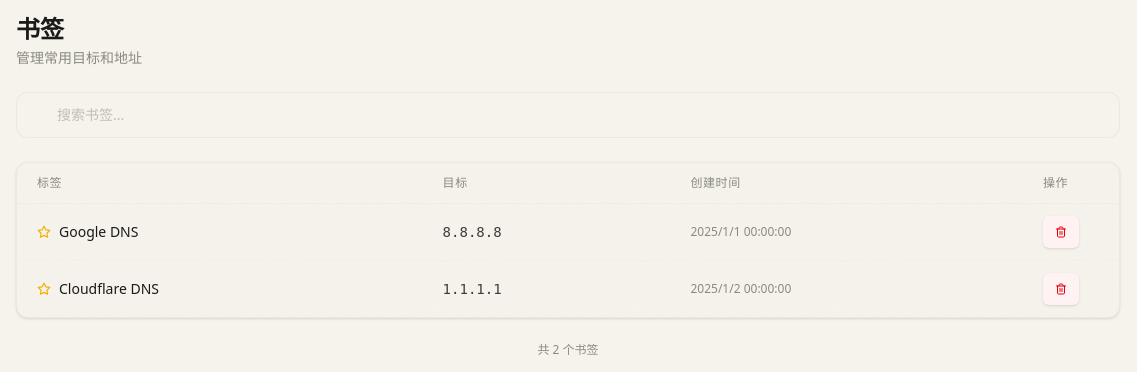
Test: BookmarksPage › filters bookmarks by search query (label match)
The image size is (1137, 372).
In the field with placeholder "搜索书签...": (568, 115) [16, 92, 1120, 138], type "Google"
Wait 300 ms
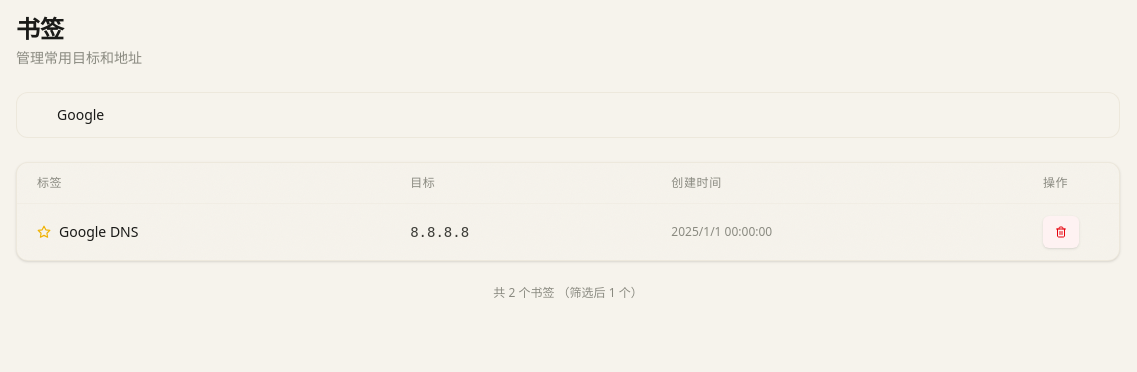
Expected: the text "Google DNS" is shown, [59, 222, 138, 242]
Now the text "Cloudflare DNS" is gone
